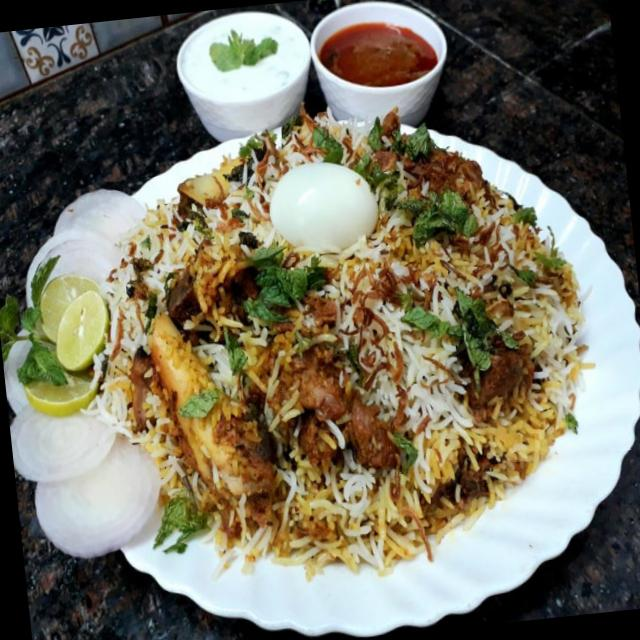Biryani: (67, 87, 602, 588)
